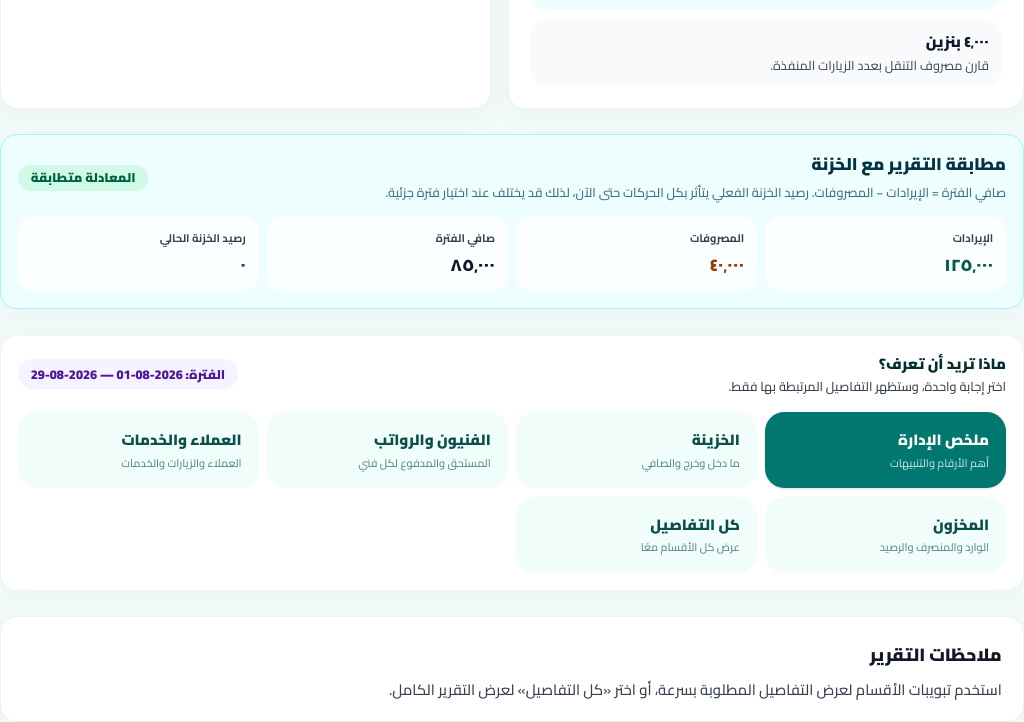
Test case: تقارير نقطة نقاء › تعرض بطاقات المخزون أسماء وشرحًا عربيًا واضحًا
The image size is (1024, 722).
(page scrolled)
Click the button "المخزون الوارد والمنصرف والرصيد": point(886, 535) [765,497,1006,573]
(page scrolled)
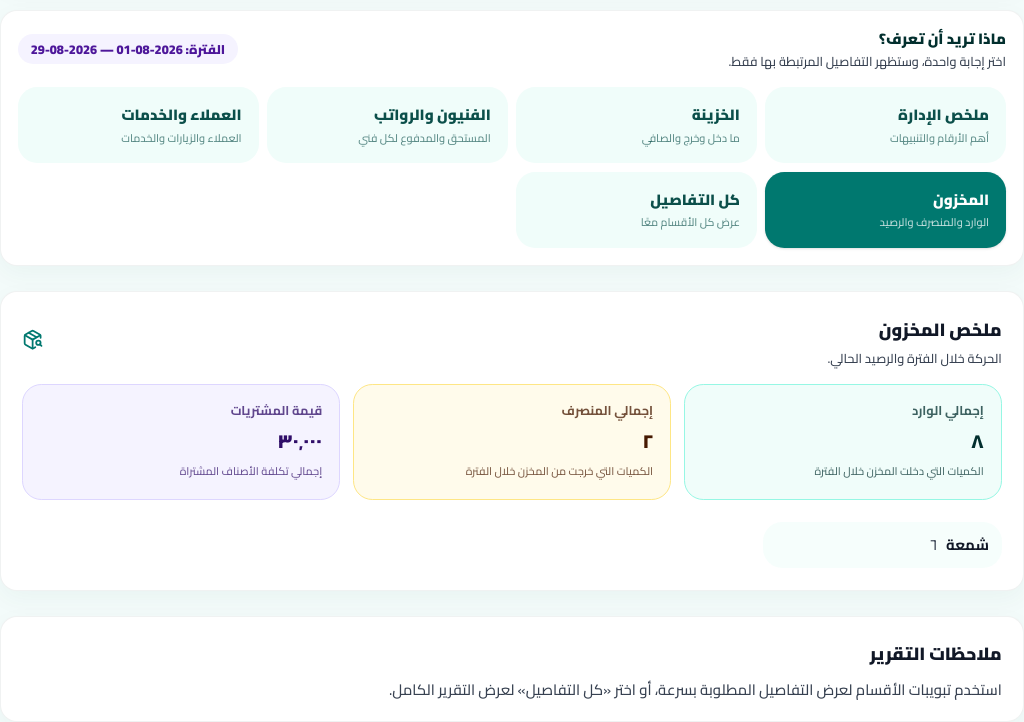
Expected: the text "إجمالي الوارد" is shown, [912,398,984,422]
Expected: the text "إجمالي المنصرف" is shown, [562,398,653,422]
Expected: the text "قيمة المشتريات" is shown, [231,398,322,422]
